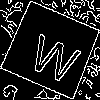W: (25, 24, 87, 85)
